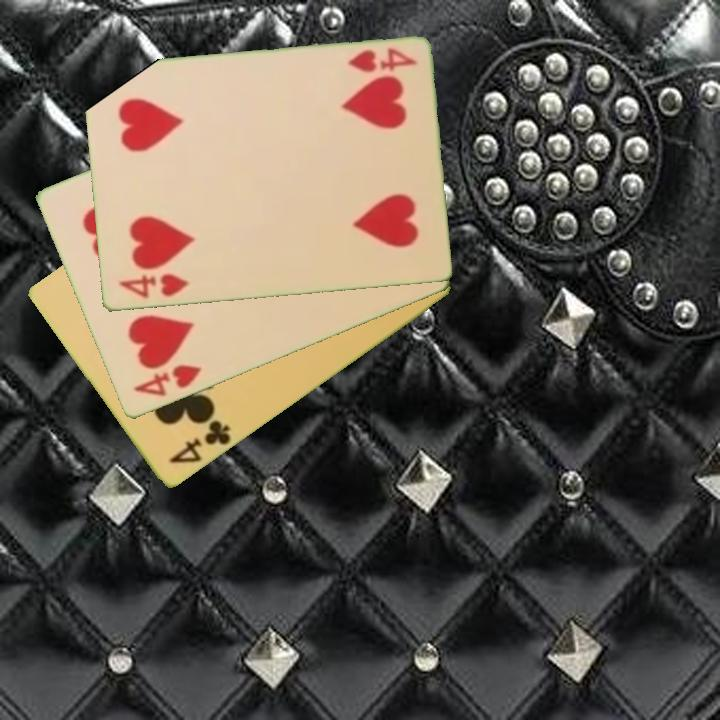4c: (165, 416, 234, 467)
4h: (130, 361, 205, 401), (115, 270, 192, 302), (344, 45, 420, 76)
